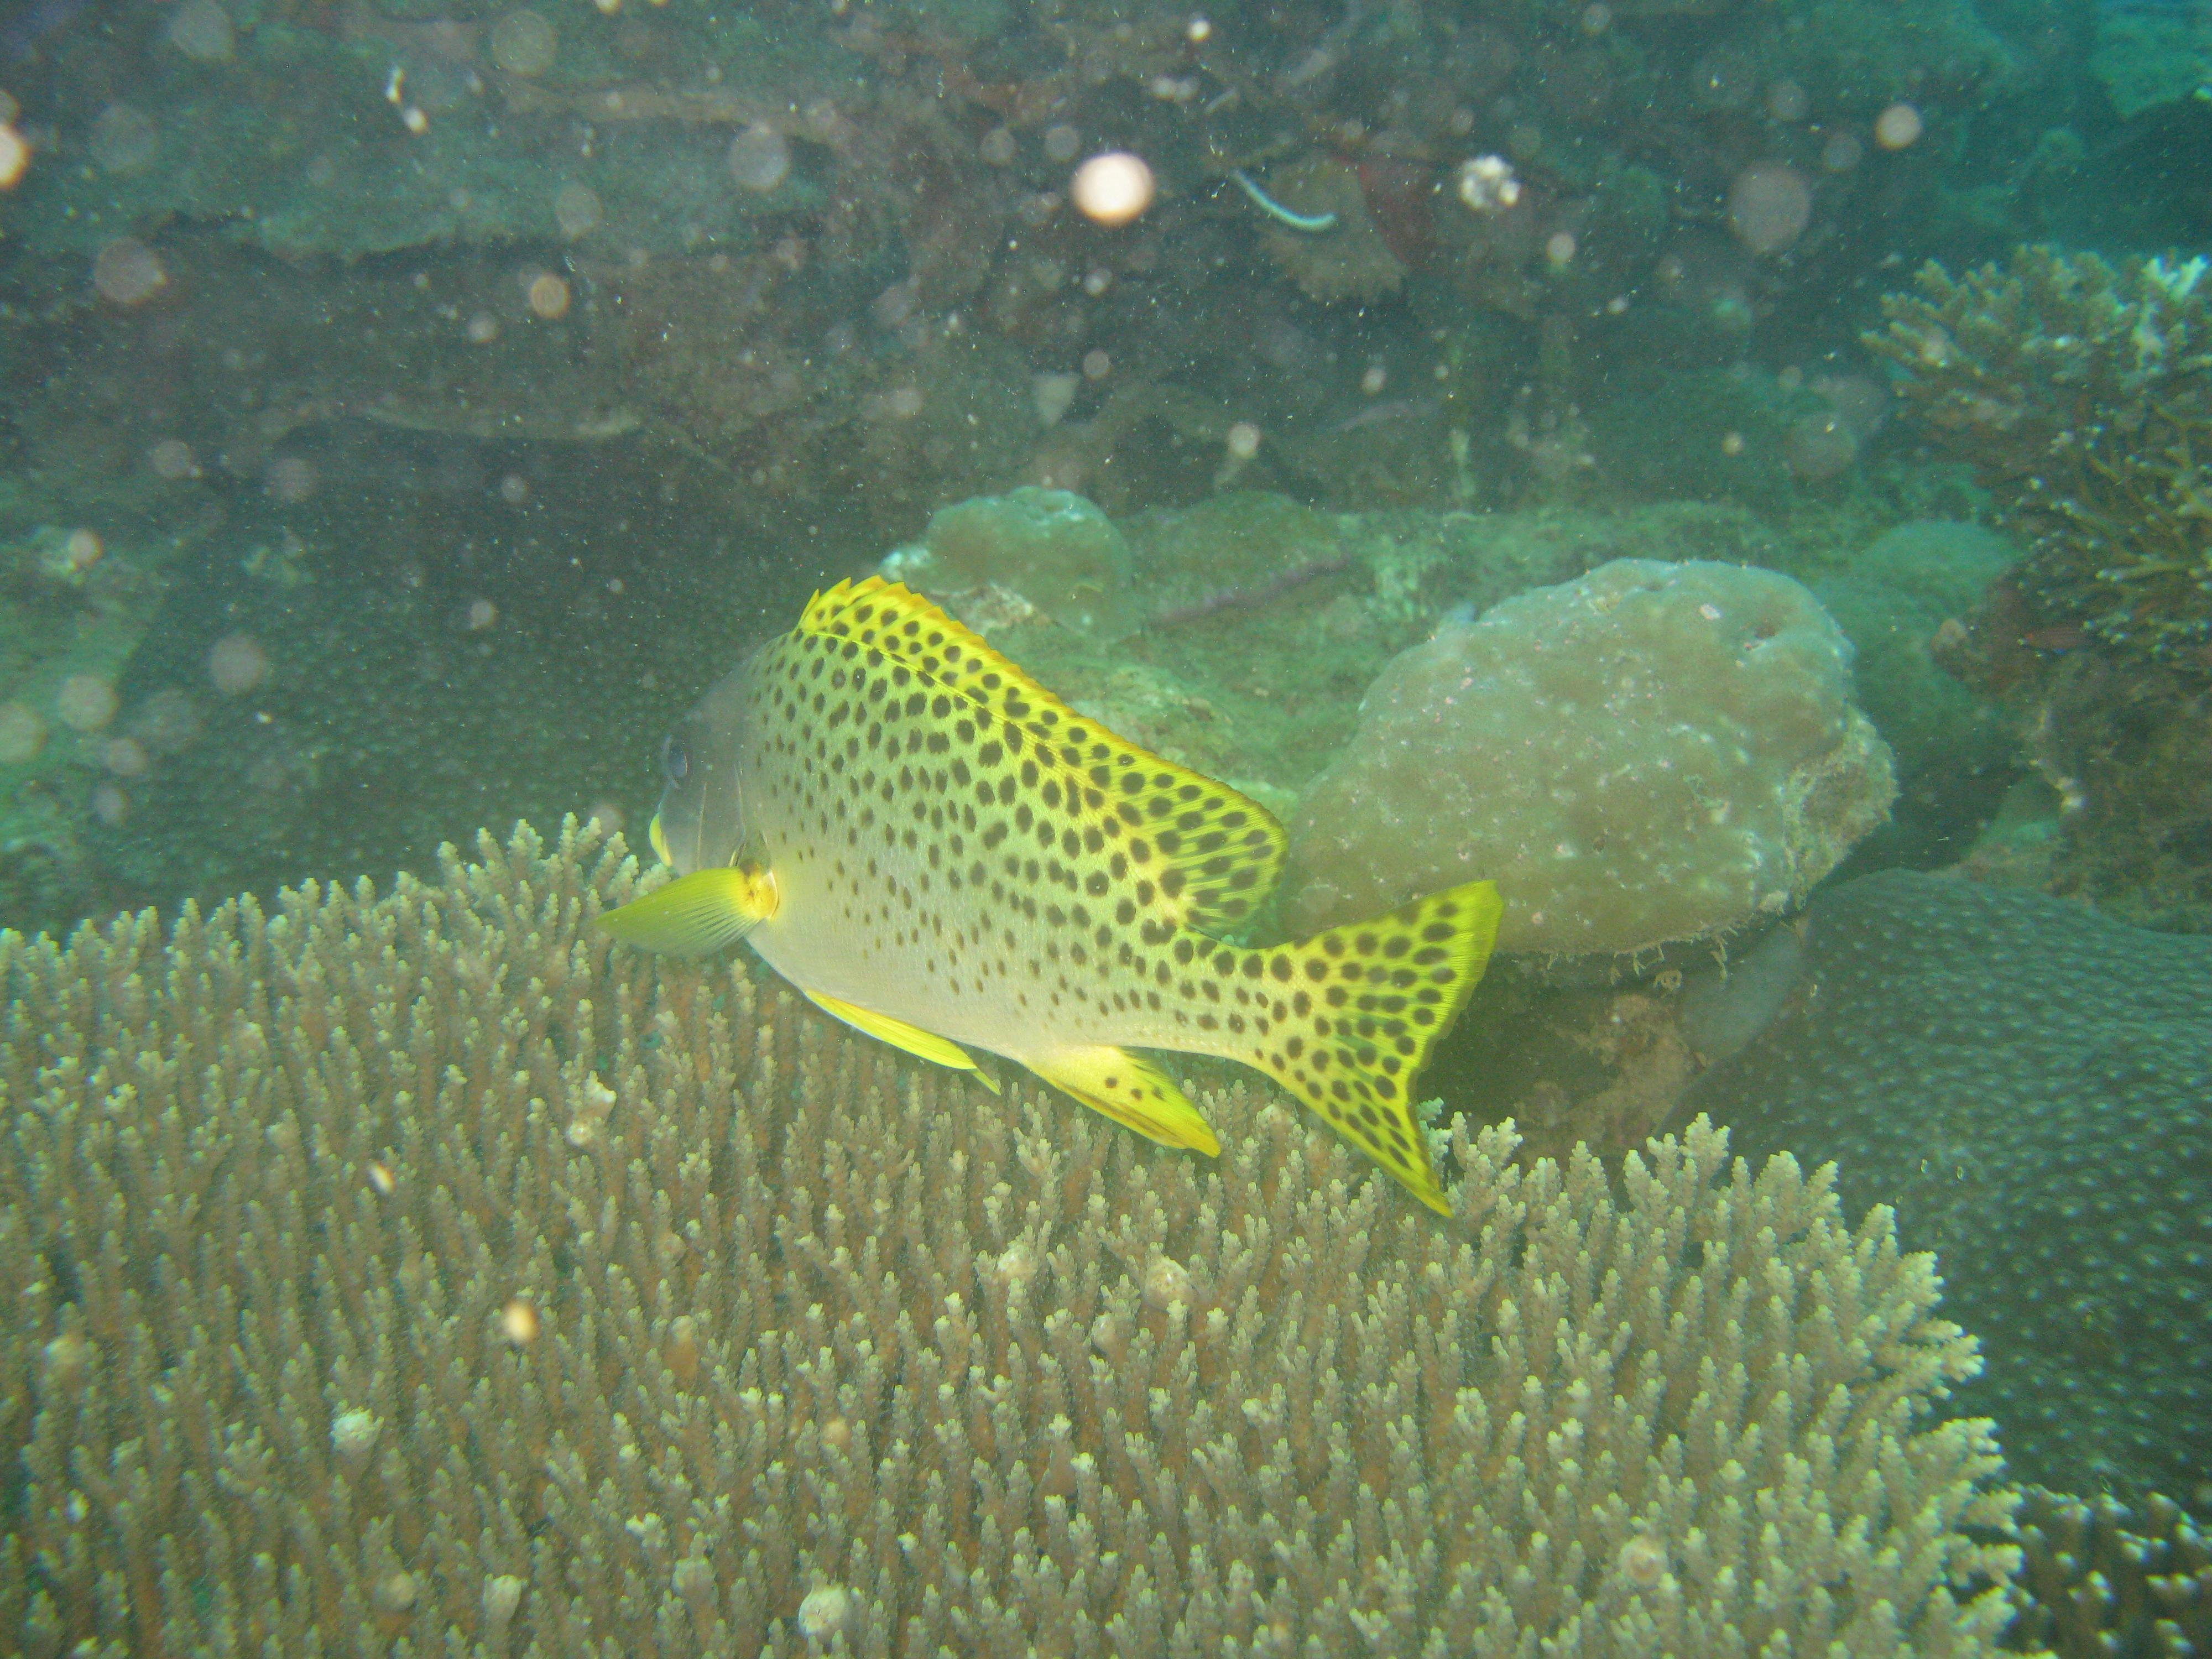Fish: (603, 568, 1501, 1202)
